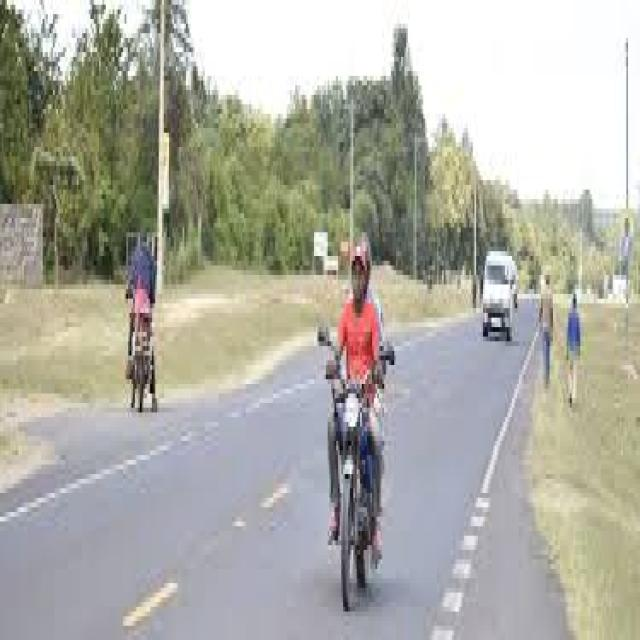bodaboda: (278, 282, 412, 627)
